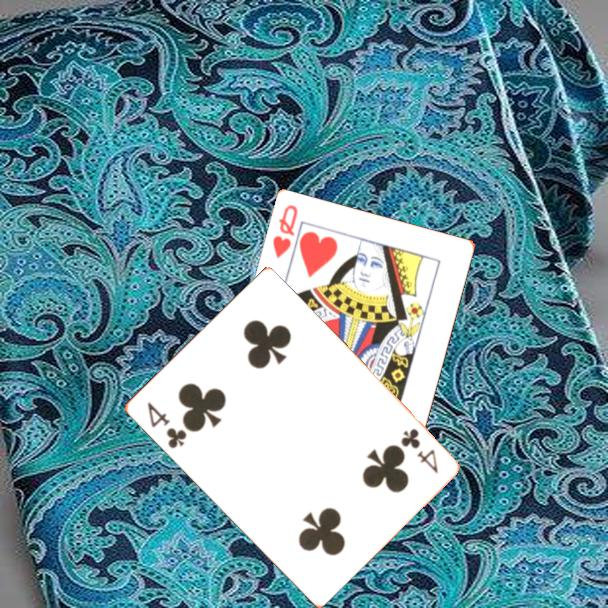c04: (143, 398, 189, 451), (397, 425, 441, 477)
h12: (269, 201, 301, 262)
